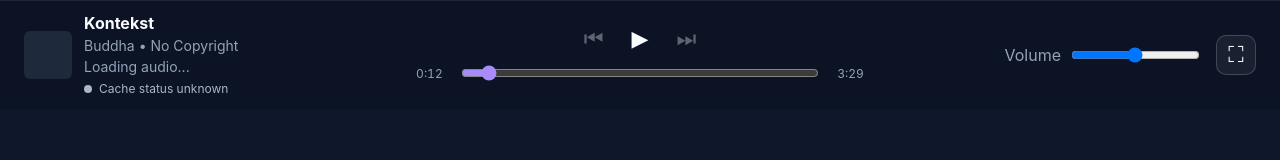
Test: SCRUM-310 playback timeline and seek › B3-T02: seeking updates the real player without reloading
The image size is (1280, 160).
expect the button named "Play" is shown: met, box [626,25,654,53]
Set the slider named "Seek position" to "95". click: (624, 73)
box: [461,61,819,85]
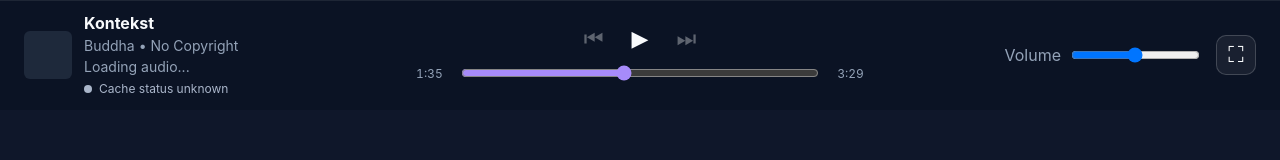
expect the text "1:35" is shown: met, box [416,66,443,81]
